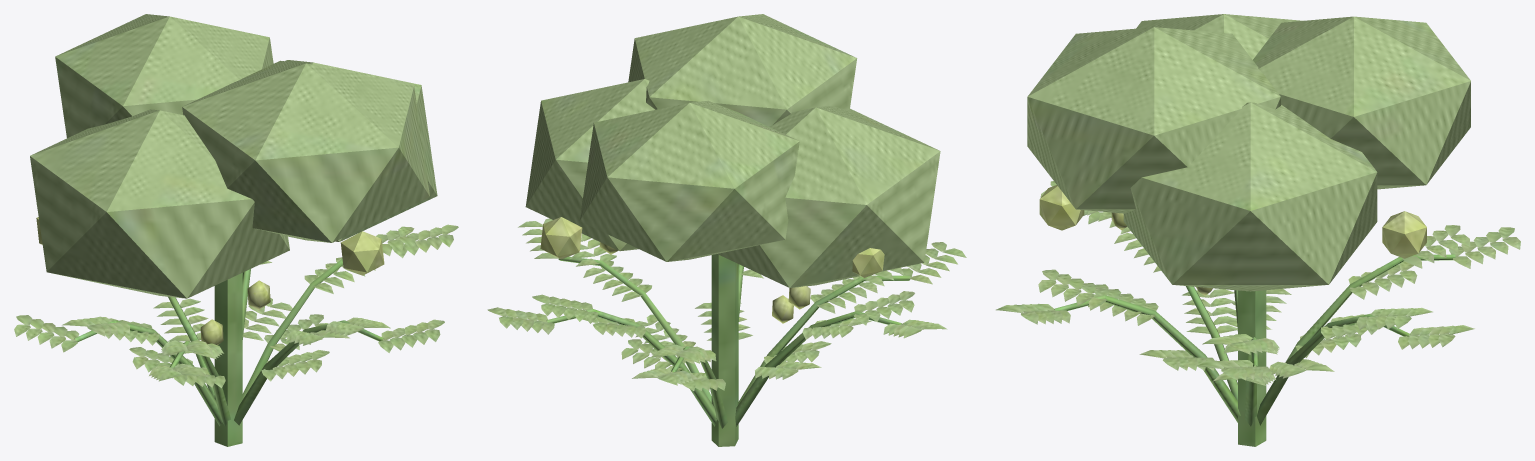
Rendered from garbanzo.glb.
The picture shows the model from 3 angles, left to right: view 1: azimuth 30°, elevation 25°; view 2: azimuth 150°, elevation 25°; view 3: azimuth 270°, elevation 25°; orthographic projection. The views are drawn at different scales.
Visible parts, largest first — view 1: garbanzo_lp, garbanzo; view 2: garbanzo_lp, garbanzo; view 3: garbanzo_lp, garbanzo.
Part boxes in pixels (x1,y1,x2,y2): garbanzo_lp: (30,14,437,446); garbanzo: (14,204,458,426); garbanzo_lp: (525,14,940,446); garbanzo: (487,218,966,428); garbanzo_lp: (1027,14,1470,446); garbanzo: (996,181,1520,426).
Bounding box in the file's own units: 0.5221 × 0.4512 × 0.4999.
2 materials, 2 textured.
